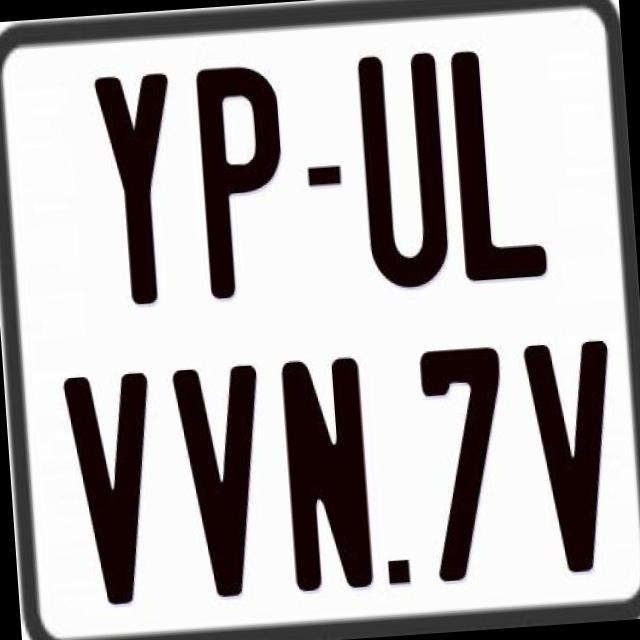7: (416, 341, 516, 581)
L: (449, 42, 548, 284)
N: (278, 356, 372, 594)
P: (191, 62, 290, 300)
U: (356, 52, 454, 289)
V: (172, 364, 276, 606), (64, 370, 166, 612), (522, 336, 621, 579)
Y: (89, 69, 185, 313)
